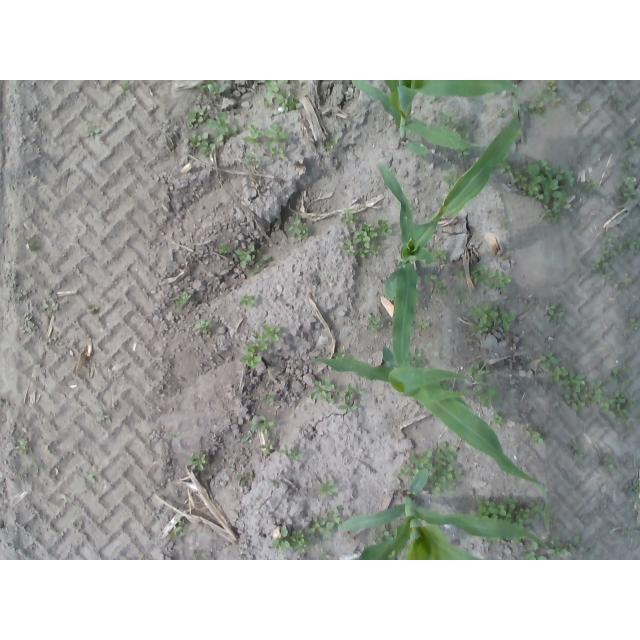Maize: (298, 348, 550, 533), (378, 99, 524, 369), (336, 468, 545, 561), (352, 80, 556, 156)
Weeds: (565, 366, 639, 427), (512, 158, 577, 226), (390, 440, 466, 496), (589, 231, 640, 290), (341, 215, 396, 262), (469, 495, 543, 526), (538, 351, 586, 394), (241, 120, 290, 161), (239, 321, 281, 368), (470, 302, 518, 339), (263, 80, 306, 118), (470, 264, 518, 296), (268, 526, 313, 559), (246, 413, 279, 458), (306, 508, 342, 544), (235, 240, 269, 277), (207, 110, 242, 144), (551, 536, 582, 561), (188, 131, 216, 158), (196, 81, 228, 104), (338, 384, 364, 412), (309, 378, 335, 405), (614, 173, 638, 201), (475, 384, 501, 409), (289, 216, 312, 244), (437, 108, 463, 131), (523, 423, 548, 446), (40, 288, 60, 316), (423, 274, 449, 295), (317, 478, 339, 502), (466, 362, 490, 383), (545, 300, 566, 324), (523, 542, 549, 560), (338, 207, 359, 229), (167, 520, 188, 542), (169, 291, 192, 311), (188, 451, 209, 472), (282, 442, 303, 462), (21, 315, 40, 337), (565, 439, 587, 458), (235, 471, 258, 489), (578, 178, 598, 198), (459, 119, 477, 141), (601, 455, 619, 475), (325, 132, 342, 153), (237, 293, 259, 309), (188, 107, 206, 126), (192, 320, 212, 337), (521, 101, 545, 115), (368, 312, 384, 332), (241, 154, 259, 171), (411, 347, 427, 365), (164, 139, 177, 161), (627, 479, 640, 500), (117, 80, 133, 97), (443, 169, 458, 187), (16, 438, 32, 454), (608, 95, 624, 111), (542, 81, 559, 96), (373, 530, 392, 542), (492, 411, 504, 430), (625, 137, 640, 152), (497, 219, 512, 234), (621, 522, 637, 536), (498, 158, 512, 174), (454, 292, 471, 305), (263, 393, 278, 407), (97, 410, 112, 424), (24, 241, 41, 253), (416, 320, 433, 332), (432, 248, 446, 262), (193, 550, 212, 560), (618, 161, 635, 172), (84, 129, 101, 140), (217, 244, 231, 257), (580, 103, 592, 118), (87, 475, 98, 490), (552, 97, 564, 110), (456, 150, 472, 159), (454, 271, 467, 282), (629, 317, 639, 331), (319, 552, 334, 561), (87, 305, 100, 315), (482, 537, 502, 543), (268, 478, 280, 488), (334, 350, 347, 359), (173, 431, 183, 441), (513, 537, 524, 543), (497, 108, 504, 117), (430, 97, 438, 103)
